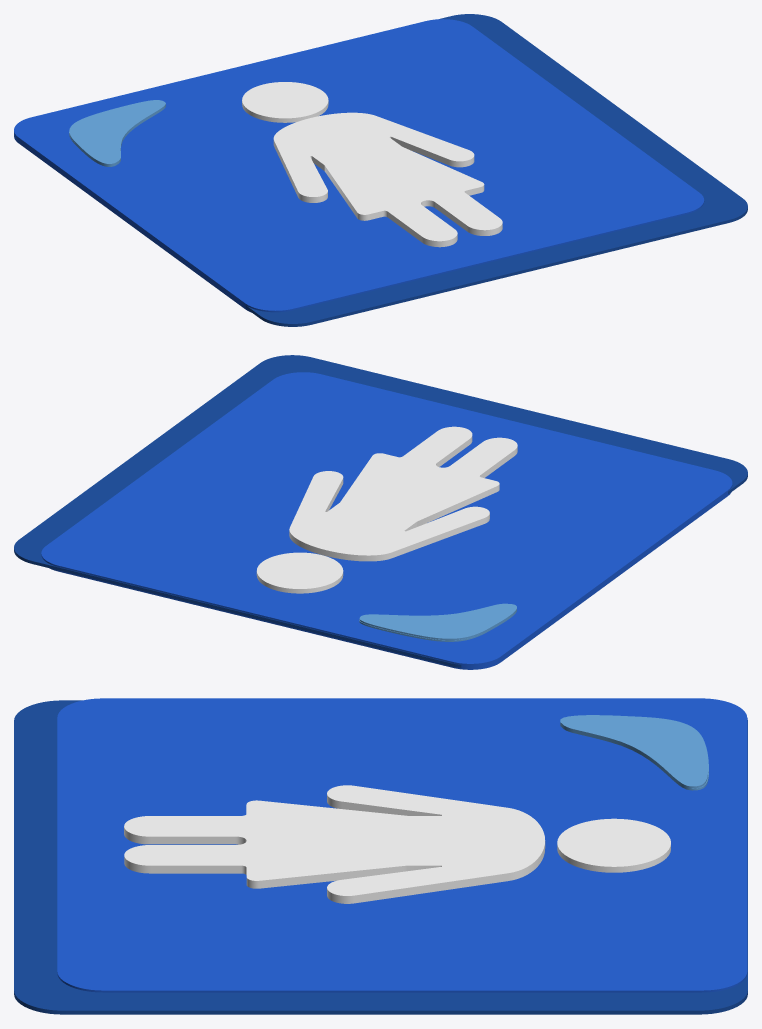
The model's file is emoji_u1f6ba.glb.
3 renders of one model, top to bottom at view 1: azimuth 30°, elevation 25°; view 2: azimuth 150°, elevation 25°; view 3: azimuth 270°, elevation 25°, orthographic. The views are drawn at different scales.
Parts seen in each view (by area): view 1: emoji_u1f6ba; view 2: emoji_u1f6ba; view 3: emoji_u1f6ba.
Part boxes in pixels (x1,y1,x2,y2): emoji_u1f6ba: [14, 14, 747, 326]; emoji_u1f6ba: [14, 355, 747, 669]; emoji_u1f6ba: [14, 698, 747, 1014].
Size of the model in its own units: 0.0339 by 0.0012 by 0.0339.
